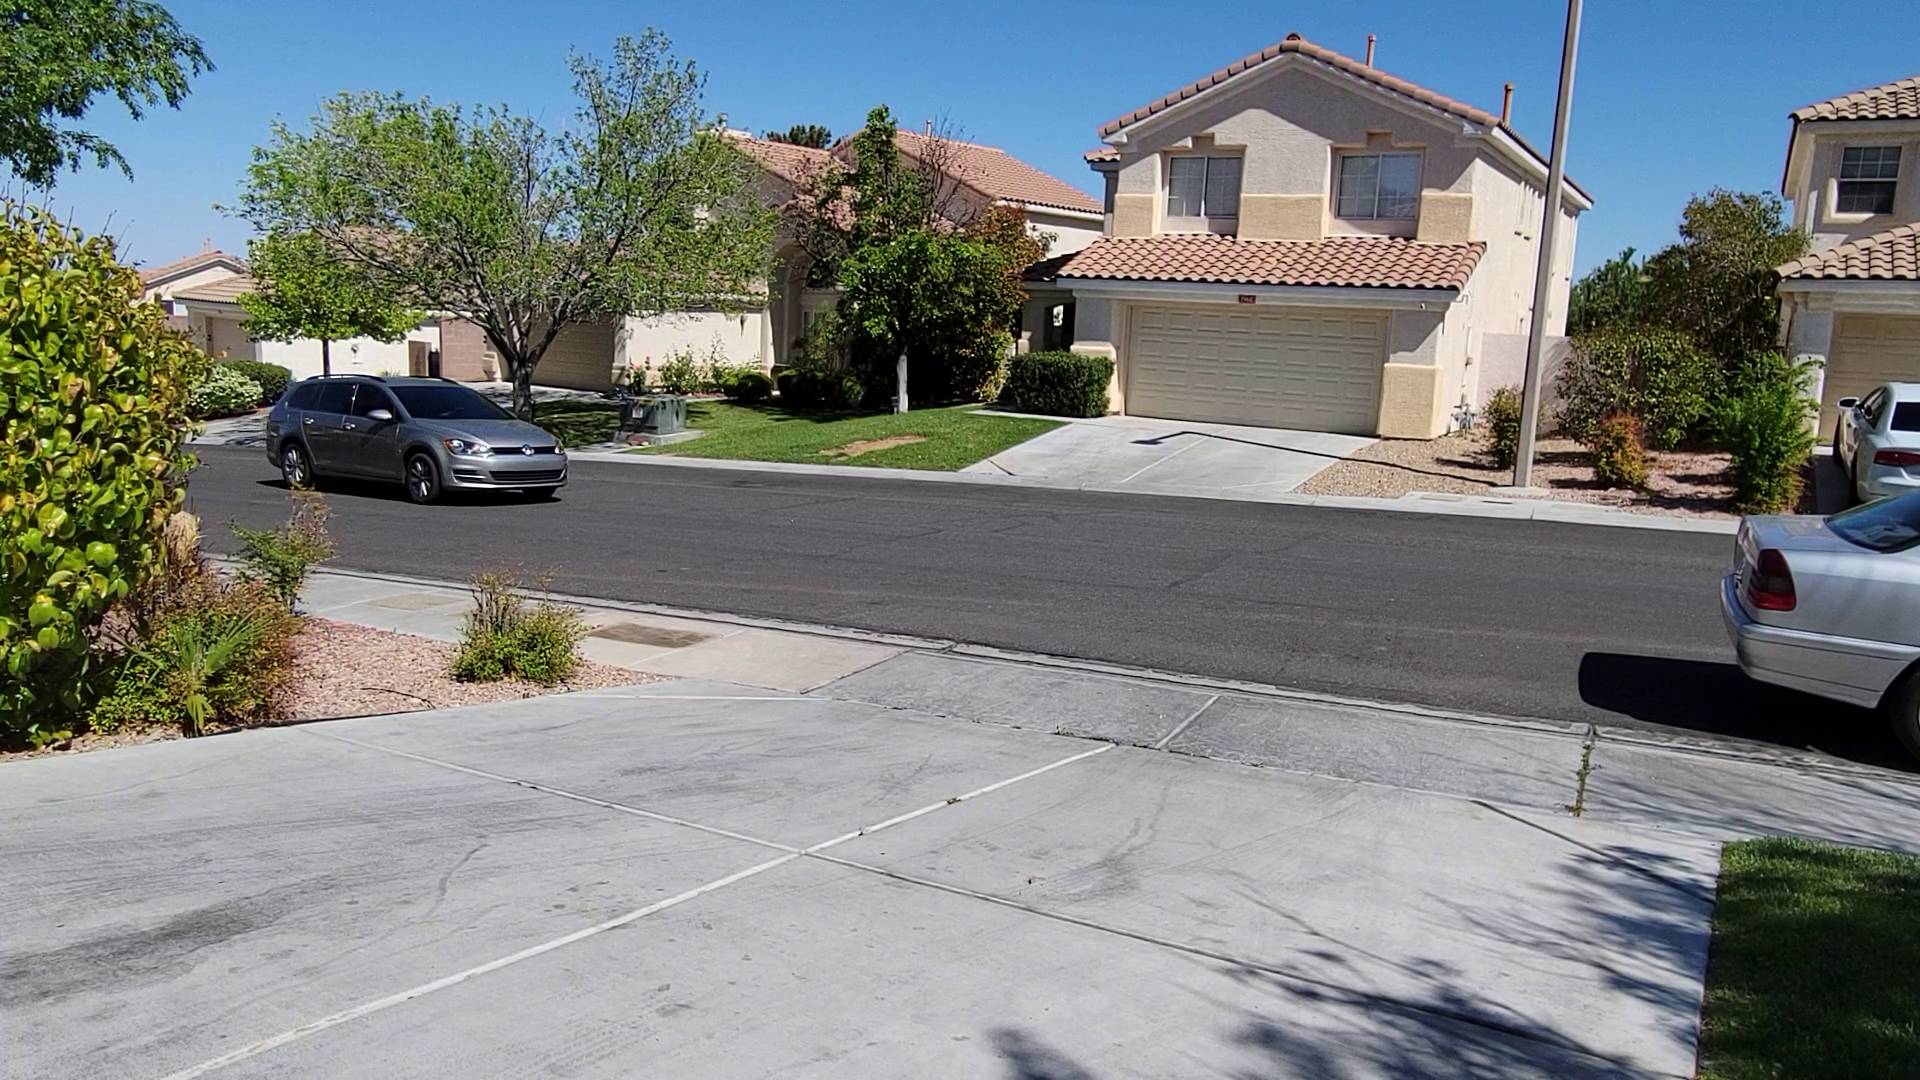car: (262, 371, 570, 508)
